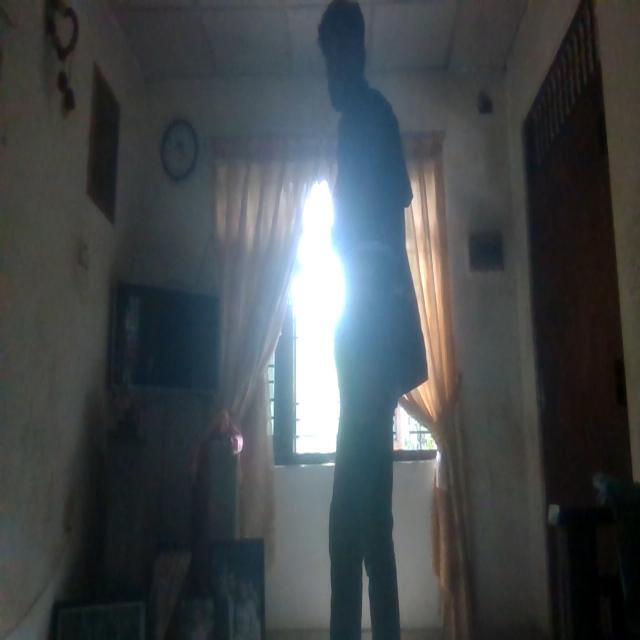Jacket_Wearer: (319, 92, 426, 399)
Person: (308, 7, 440, 640)
